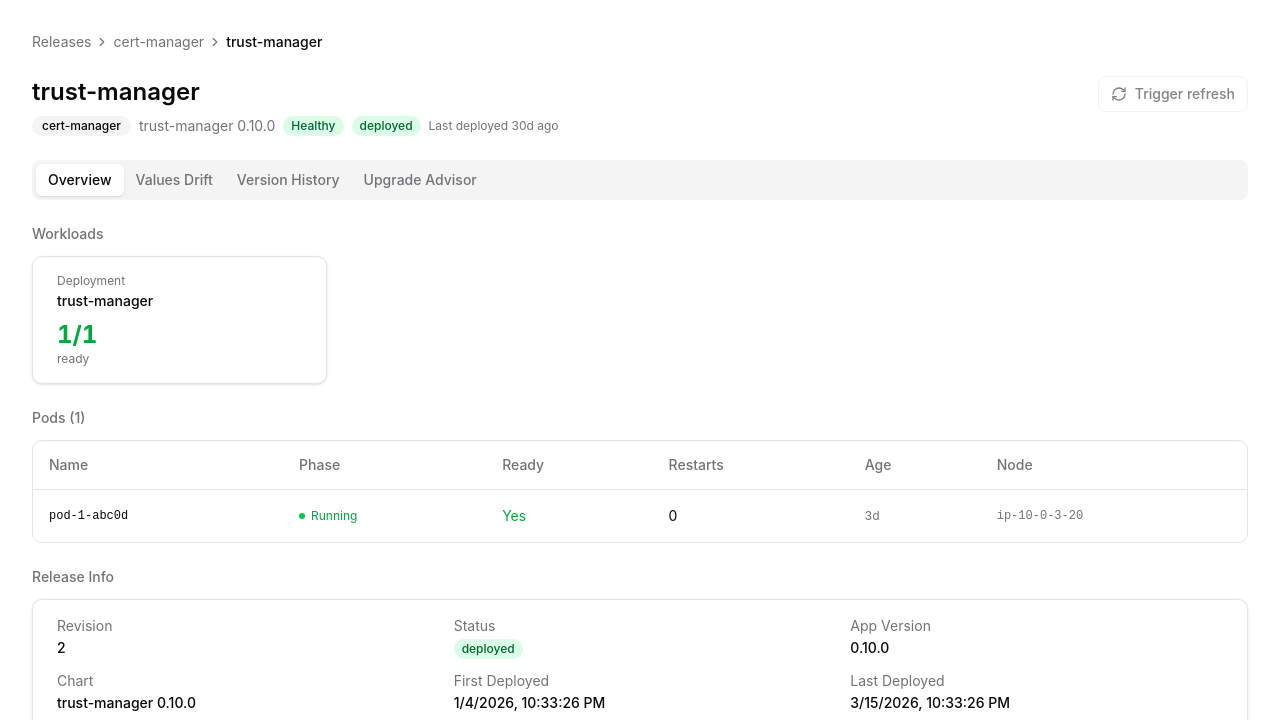
Test: ReleaseDetailPage — tabs › Values Drift tab shows "No drift detected" for trust-manager
Click the tab "Values Drift". click: [174, 180]
box: x1=124 y1=164 x2=225 y2=196
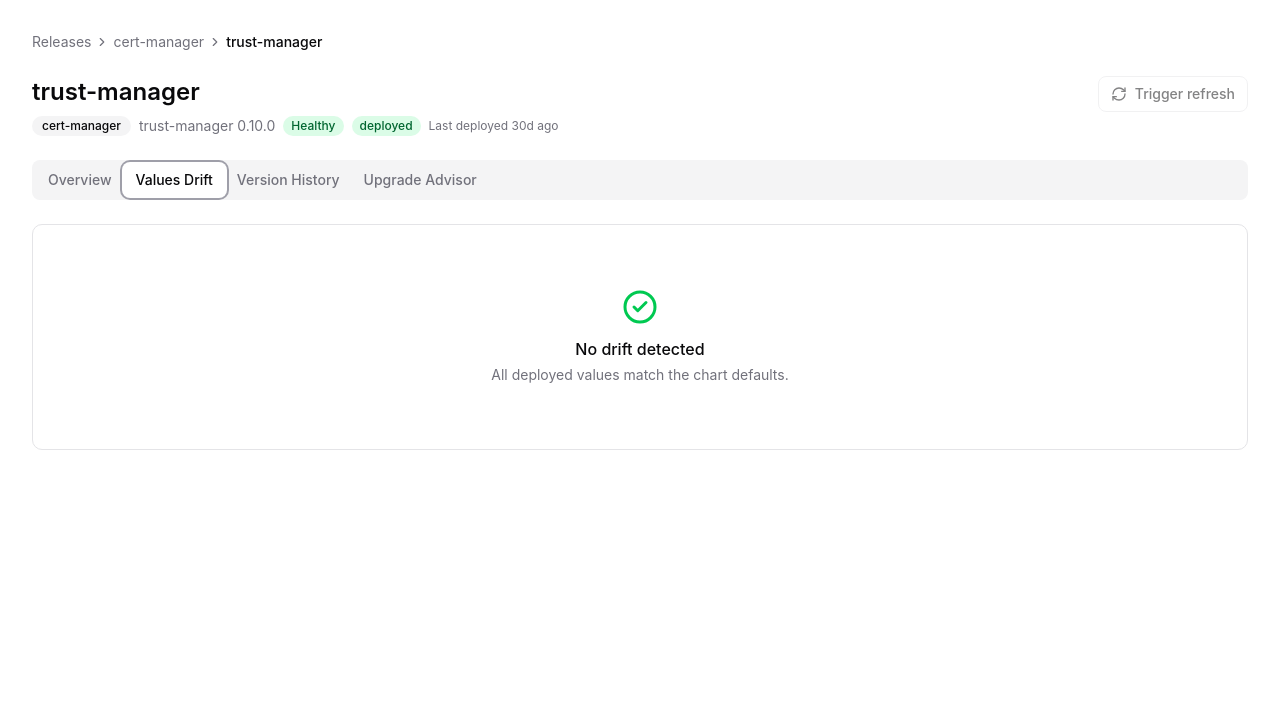
Expected: the text "No drift detected" is shown, x1=575 y1=337 x2=705 y2=361
